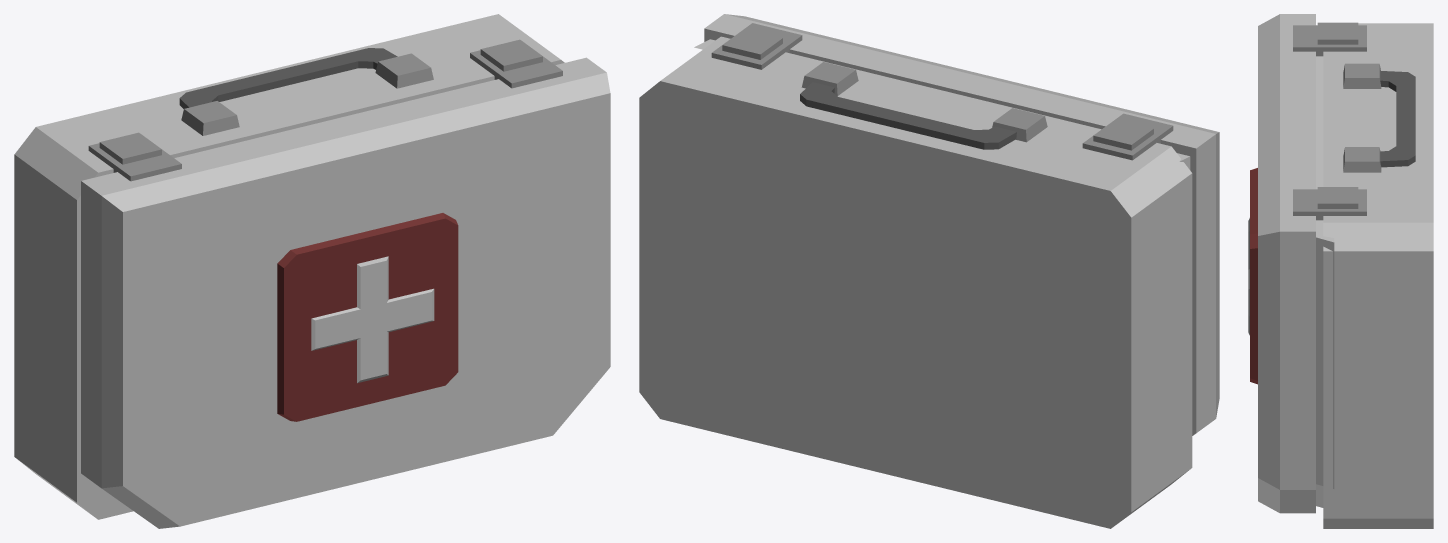
The model's file is first_aid_kit_hard.glb.
3 views of the same model, side by side, from view 1: azimuth 30°, elevation 25°; view 2: azimuth 150°, elevation 25°; view 3: azimuth 270°, elevation 25° (orthographic). The views are drawn at different scales.
Parts seen in each view (by area): view 1: FirstAidKit_Hard; view 2: FirstAidKit_Hard; view 3: FirstAidKit_Hard.
Part boxes in pixels (x1,y1,x2,y2): FirstAidKit_Hard: (14, 14, 610, 528); FirstAidKit_Hard: (639, 14, 1219, 528); FirstAidKit_Hard: (1248, 14, 1433, 528).
Size of the model in its own units: 1.88 by 1.28 by 0.677.
